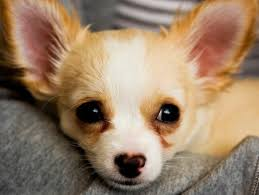chihuahua: (1, 1, 259, 191)
